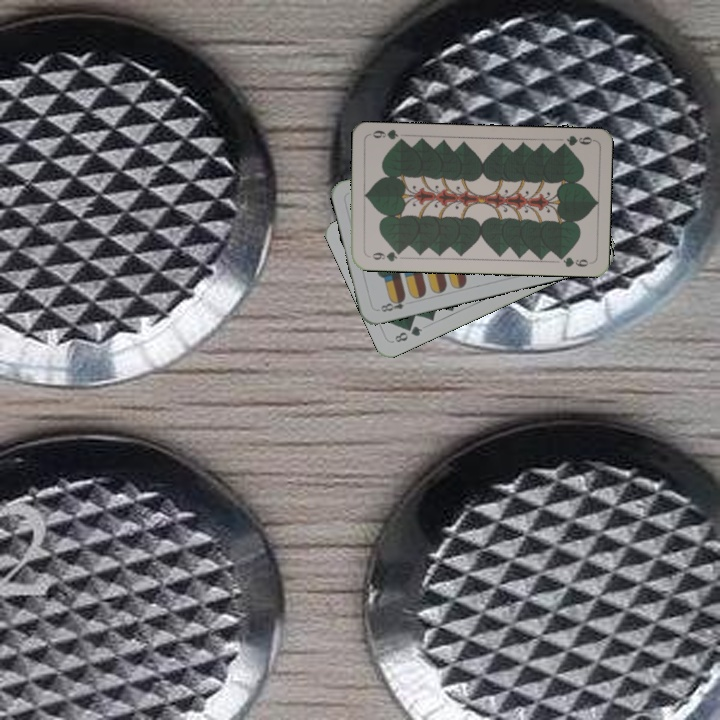E8: (374, 293, 408, 314)
G8: (390, 322, 425, 345)
G9: (555, 131, 596, 150), (364, 247, 404, 264)
